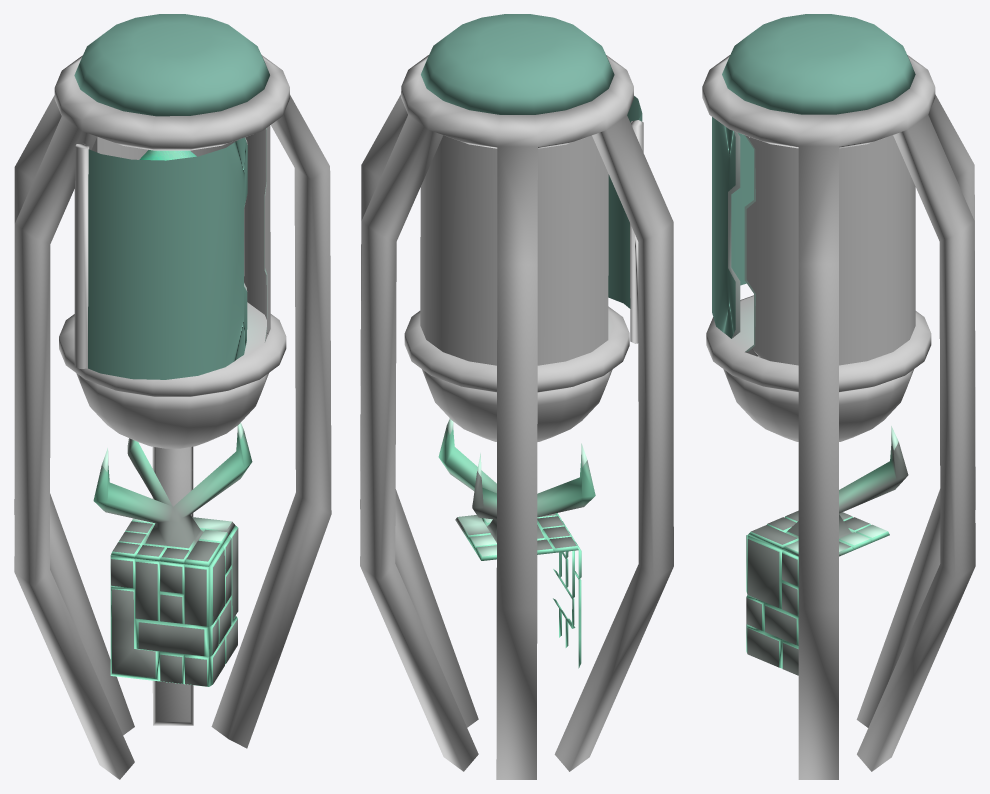
Rendered from hagb.hrc.gltf.
The picture shows the model from 3 angles, left to right: view 1: azimuth 30°, elevation 25°; view 2: azimuth 150°, elevation 25°; view 3: azimuth 270°, elevation 25°; orthographic projection.
Parts seen in each view (by area): view 1: hagbBone0_bone_1, hagbBone2_bone_3; view 2: hagbBone0_bone_1, hagbBone2_bone_3; view 3: hagbBone0_bone_1, hagbBone2_bone_3.
Boxes of the visible parts, x1=… form: hagbBone0_bone_1: x1=14, y1=14, x2=331, y2=779; hagbBone2_bone_3: x1=74, y1=137, x2=247, y2=379; hagbBone0_bone_1: x1=360, y1=14, x2=673, y2=779; hagbBone2_bone_3: x1=608, y1=96, x2=643, y2=343; hagbBone0_bone_1: x1=702, y1=14, x2=975, y2=779; hagbBone2_bone_3: x1=712, y1=117, x2=753, y2=338.
Size of the model in its own units: 32.11 by 74.35 by 25.9.
